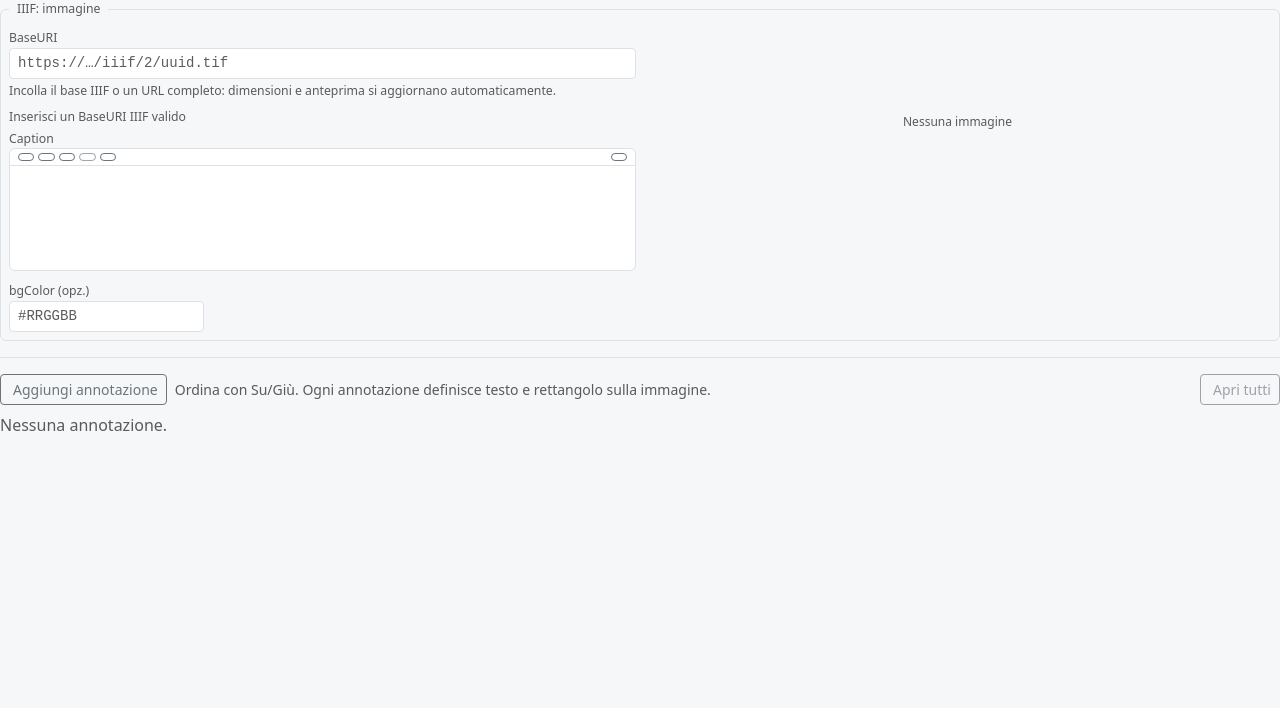
Scenario: SectionBody › IIFAnnotationsGroup: mostra toolbar annotazioni
Click the button "Aggiungi annotazione" at point(83, 389), box left=0, top=374, right=167, bottom=405
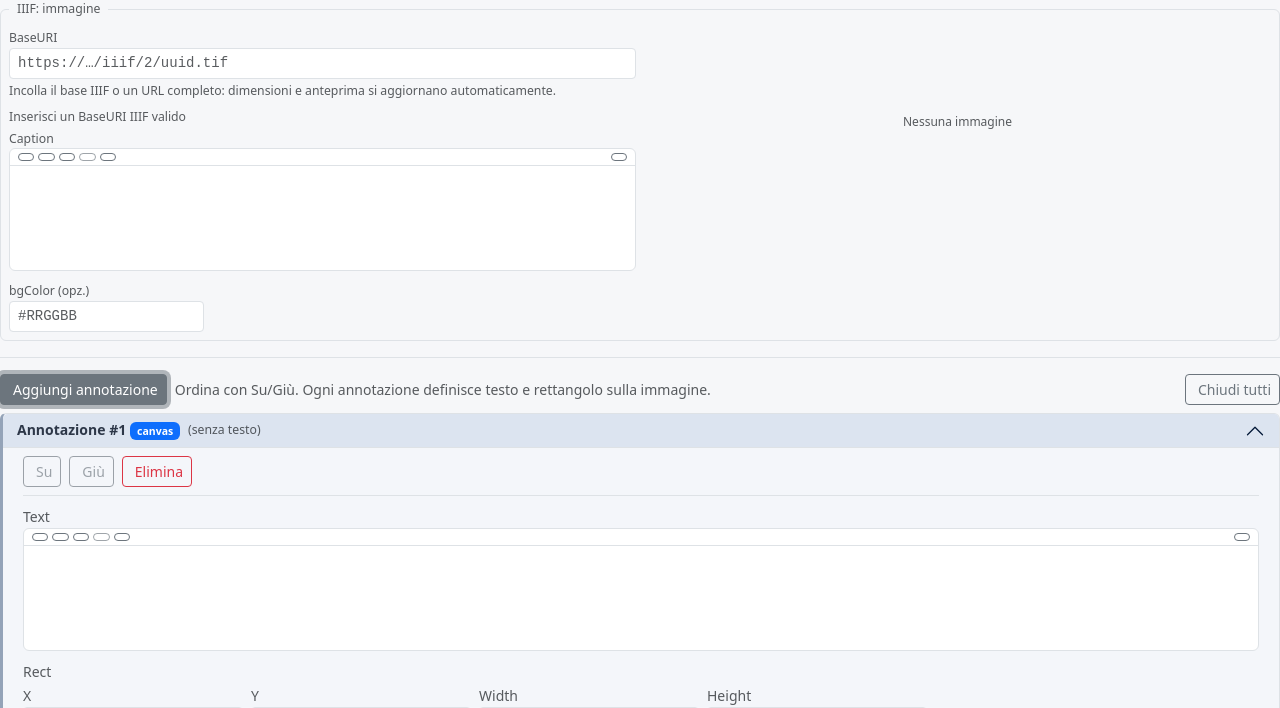
Expected: the button "Annotazione #1 canvas (senza testo)" is shown, left=3, top=414, right=1279, bottom=448
